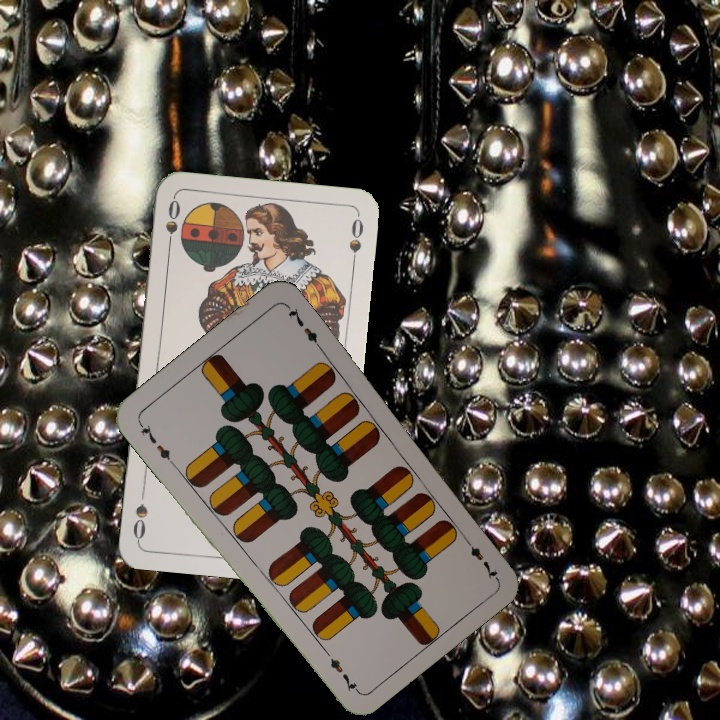E7: (134, 418, 177, 468), (458, 532, 501, 582)
SO: (161, 195, 183, 254)
